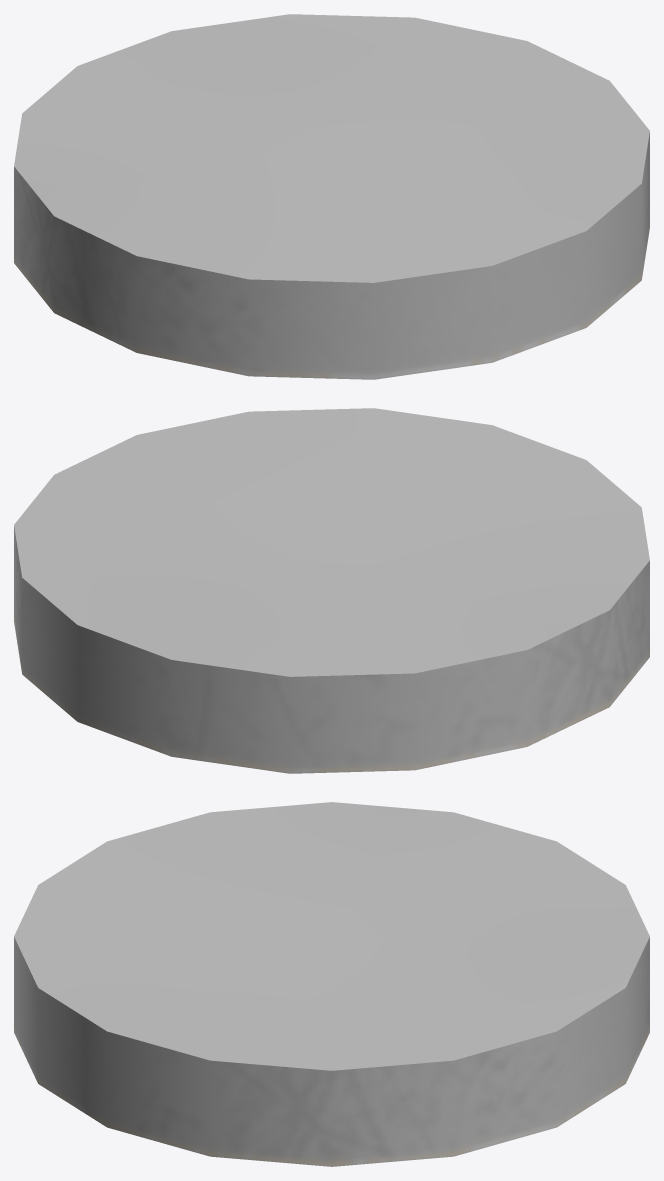
The model's file is ceilinglightA.fbx.
The picture shows the model from 3 angles, top to bottom: view 1: azimuth 30°, elevation 25°; view 2: azimuth 150°, elevation 25°; view 3: azimuth 270°, elevation 25°; orthographic projection.
Visible parts, largest first — view 1: ceilinglightA; view 2: ceilinglightA; view 3: ceilinglightA.
Boxes of the visible parts, <box> form: ceilinglightA: <box>14,14,649,379</box>; ceilinglightA: <box>14,408,649,773</box>; ceilinglightA: <box>14,802,649,1166</box>.
Size of the model in its own units: 12 by 2 by 12.
Materials: 1 (1 with a texture image).
